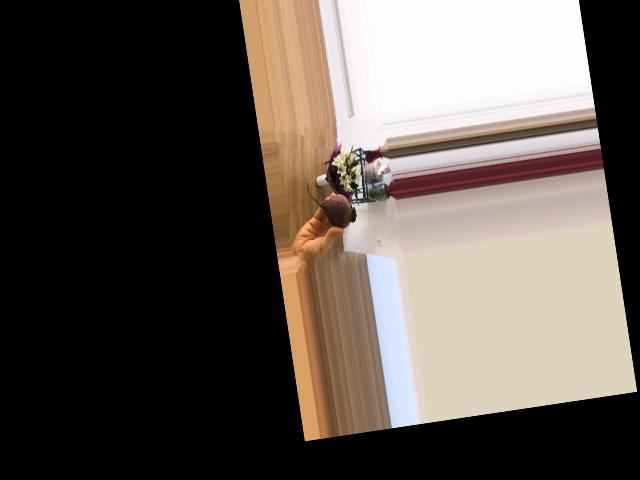beet: (306, 175, 358, 232)
